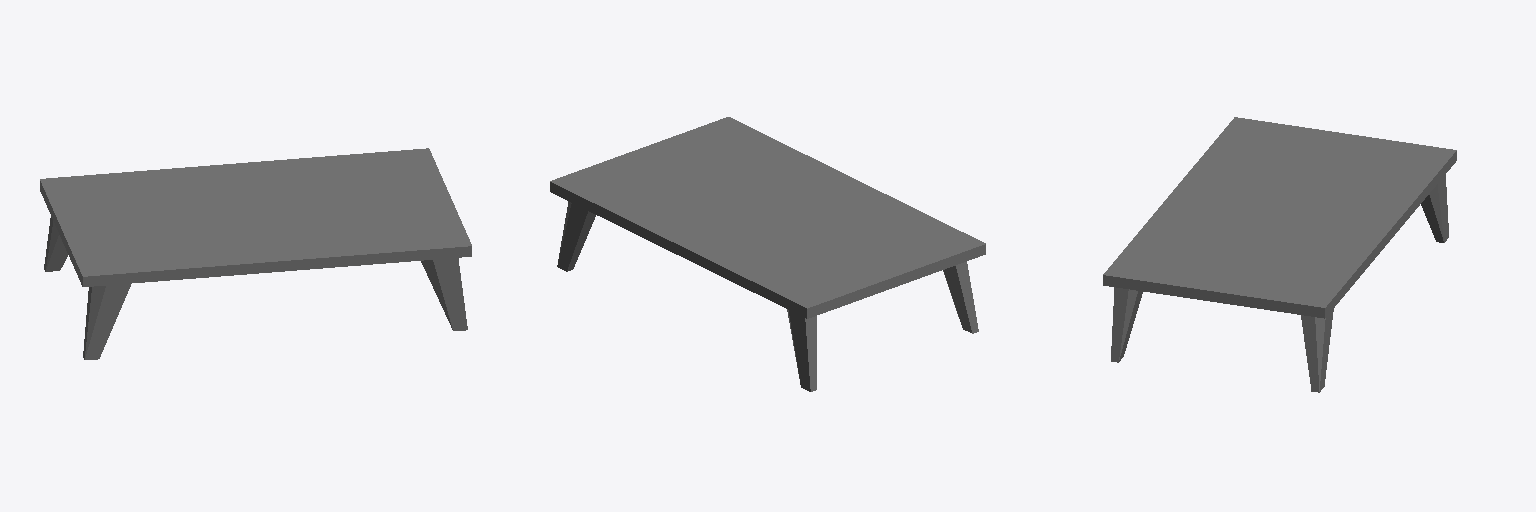
Rendered from table.obj.
3 renders of one model, left to right at view 1: azimuth 30°, elevation 25°; view 2: azimuth 150°, elevation 25°; view 3: azimuth 270°, elevation 25°, orthographic.
Parts seen in each view (by area): view 1: table:pCube1 table1; view 2: table:pCube1 table1; view 3: table:pCube1 table1.
Boxes of the visible parts, <box> form: table:pCube1 table1: <box>40,148,471,359</box>; table:pCube1 table1: <box>550,117,985,391</box>; table:pCube1 table1: <box>1103,117,1456,392</box>.
Bounding box in the file's own units: 4.66 × 0.9876 × 3.65.